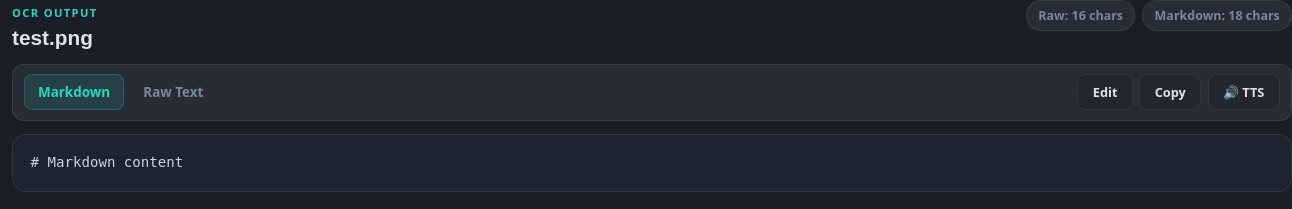
Scenario: ResultPanel › should switch to raw text tab
This screenshot has width=1292, height=209.
Click the button "Raw Text".
click(173, 92)  # box [130, 74, 217, 110]
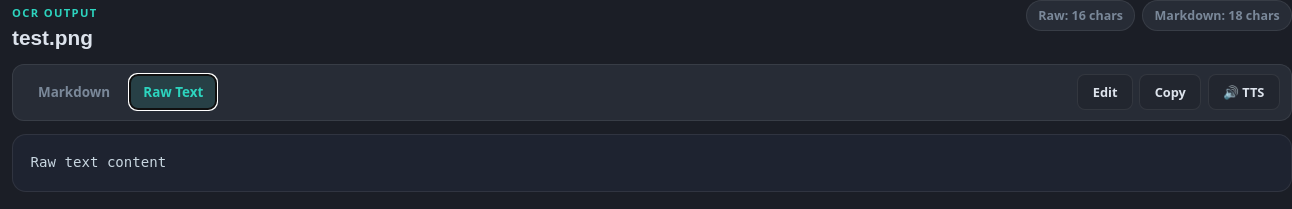
Result: the text "Raw text content" is shown at [12, 134, 1291, 192]
